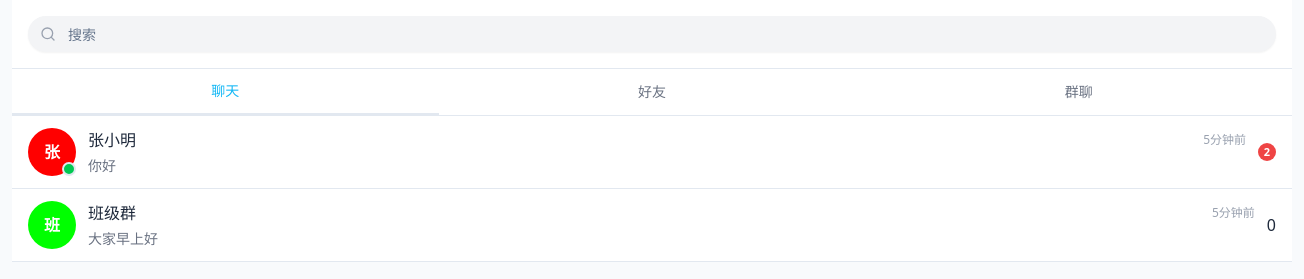
it: ChatList › filters conversations by search query
In the field with placeholder "搜索": (652,34) [28,16,1276,52], type "张小明"
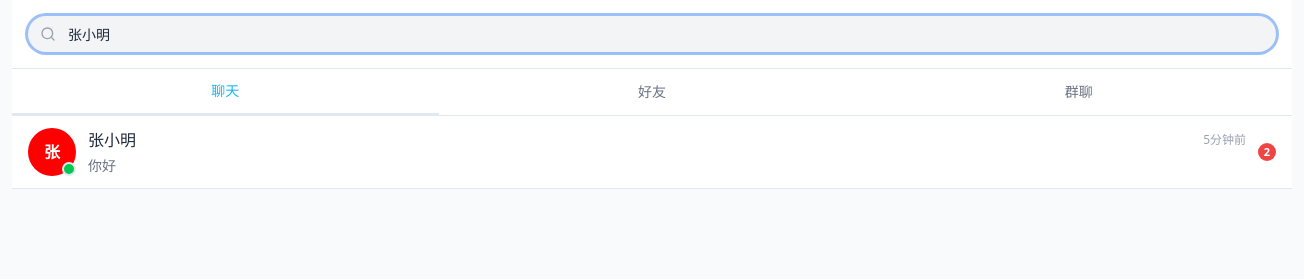
Expected: the text "张小明" is shown, [88,128,136,152]
Expected: the text "班级群" is gone
